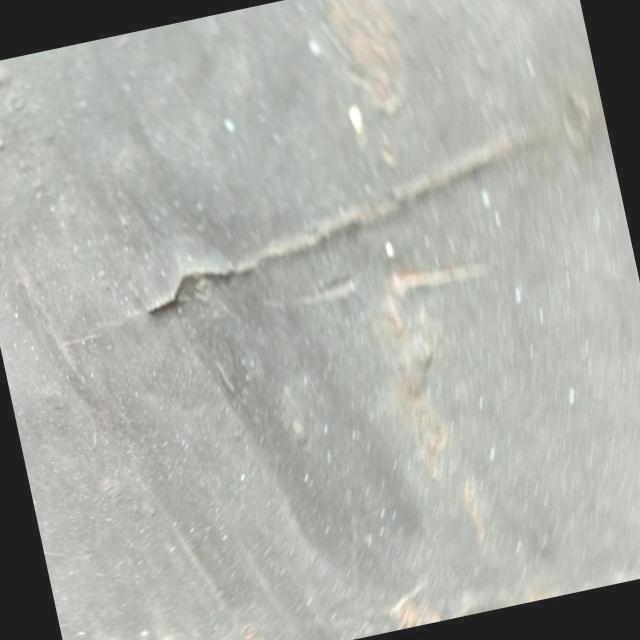defect: (142, 135, 538, 319)
